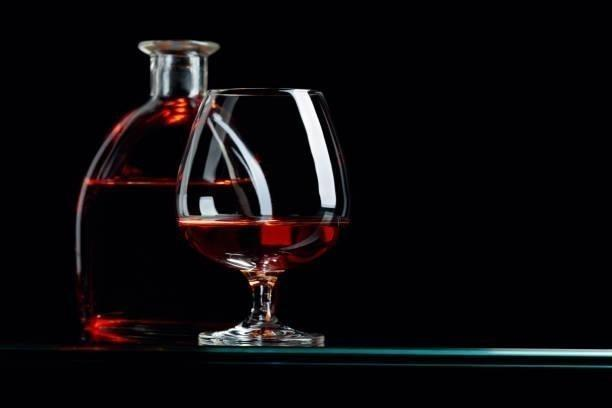glass-wine: (175, 86, 351, 347)
